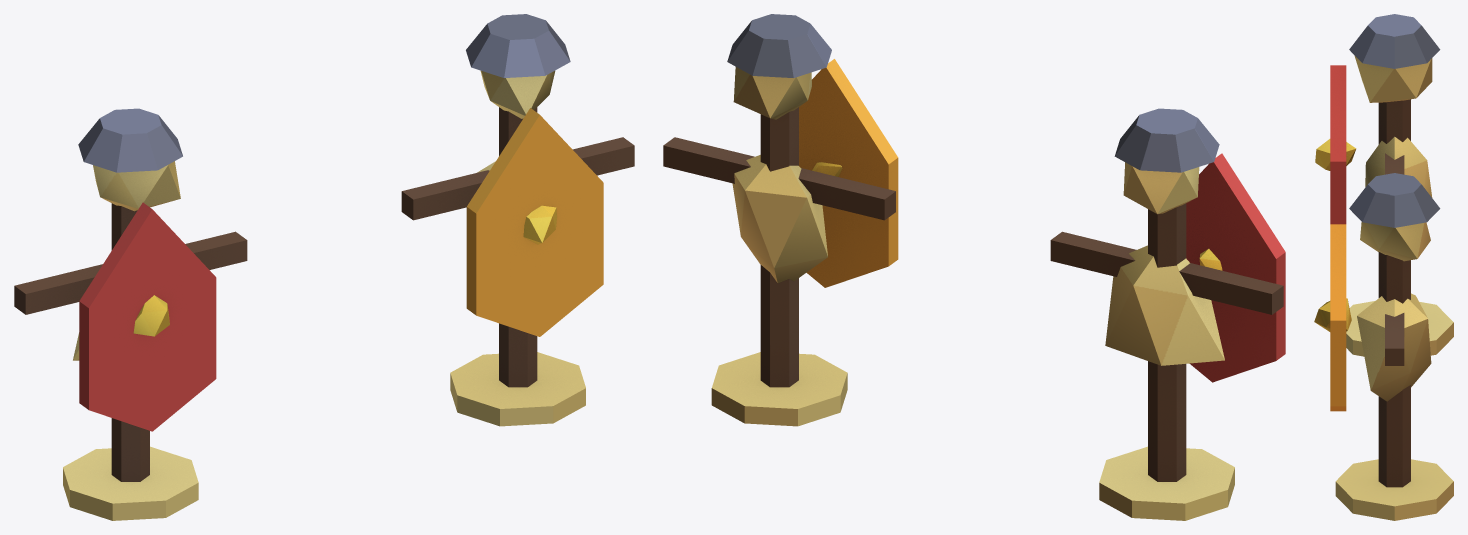
Rendered from area_guard_0_5.fbx.
3 views of the same model, side by side, from view 1: azimuth 30°, elevation 25°; view 2: azimuth 150°, elevation 25°; view 3: azimuth 270°, elevation 25° (orthographic). The views are drawn at different scales.
Parts seen in each view (by area): view 1: area_guard_0_5_body; view 2: area_guard_0_5_body; view 3: area_guard_0_5_body.
Boxes of the visible parts, x1,y1,x2,y2 form: area_guard_0_5_body: [14, 14, 634, 520]; area_guard_0_5_body: [663, 14, 1285, 520]; area_guard_0_5_body: [1314, 14, 1453, 520].
Size of the model in its own units: 2750 by 1600 by 650.
1 material, 1 textured.
